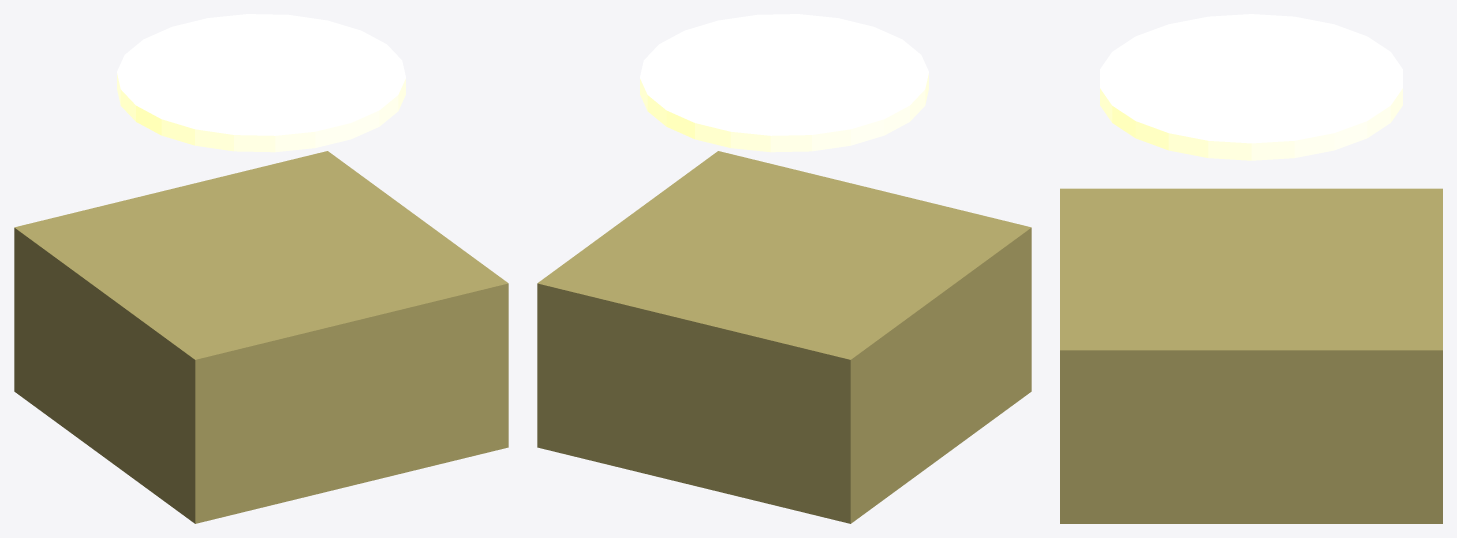
Rendered from Goal_Half.glb.
3 renders of one model, left to right at view 1: azimuth 30°, elevation 25°; view 2: azimuth 150°, elevation 25°; view 3: azimuth 270°, elevation 25°, orthographic. The views are drawn at different scales.
Parts seen in each view (by area): view 1: Goal_Half_body, glow_disc.001; view 2: Goal_Half_body, glow_disc.001; view 3: Goal_Half_body, glow_disc.001.
Boxes of the visible parts, <box> form: Goal_Half_body: <box>14,151,508,523</box>; glow_disc.001: <box>117,14,405,152</box>; Goal_Half_body: <box>537,151,1031,523</box>; glow_disc.001: <box>640,14,928,152</box>; Goal_Half_body: <box>1060,188,1442,523</box>; glow_disc.001: <box>1100,14,1402,160</box>.
Bounding box in the file's own units: 1 × 1.05 × 1.
